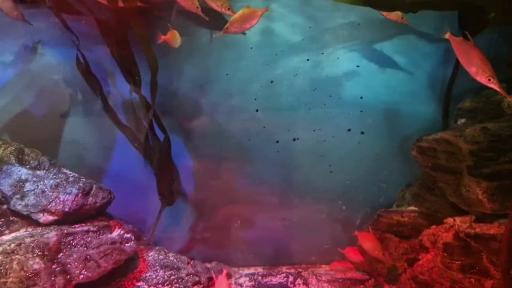Fish: (443, 31, 511, 100), (214, 6, 268, 37), (354, 231, 384, 260), (0, 0, 32, 25), (176, 0, 208, 20), (158, 25, 182, 48), (204, 0, 235, 15), (339, 247, 364, 263), (379, 11, 408, 24), (330, 261, 355, 272), (214, 270, 230, 287), (507, 59, 511, 75), (97, 0, 108, 5)
